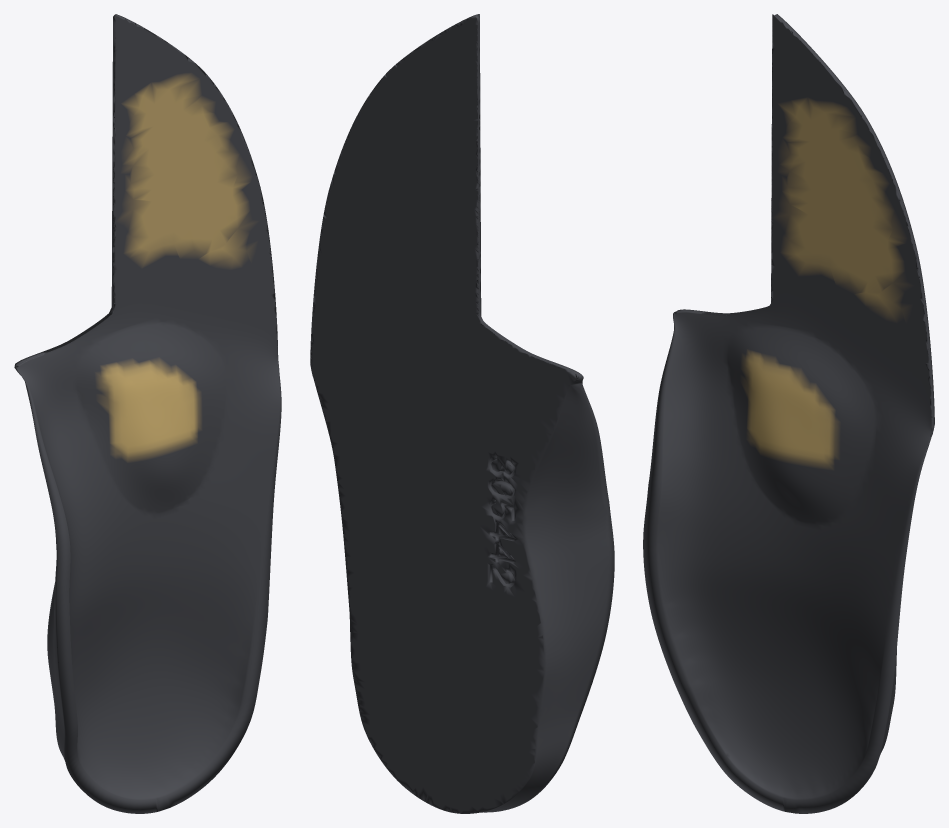
The model's file is CPO-305442_RIGHT.glb.
The picture shows the model from 3 angles, left to right: view 1: azimuth 30°, elevation 25°; view 2: azimuth 150°, elevation 25°; view 3: azimuth 330°, elevation 25°; orthographic projection. The views are drawn at different scales.
Parts seen in each view (by area): view 1: geometry_0; view 2: geometry_0; view 3: geometry_0.
Part boxes in pixels (x1,y1,x2,y2): geometry_0: (14,14,281,813); geometry_0: (310,14,614,813); geometry_0: (643,14,934,813).
Bounding box in the file's own units: 103 × 295 × 26.01.
